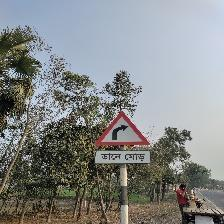Right-turn: (93, 111, 151, 165)
